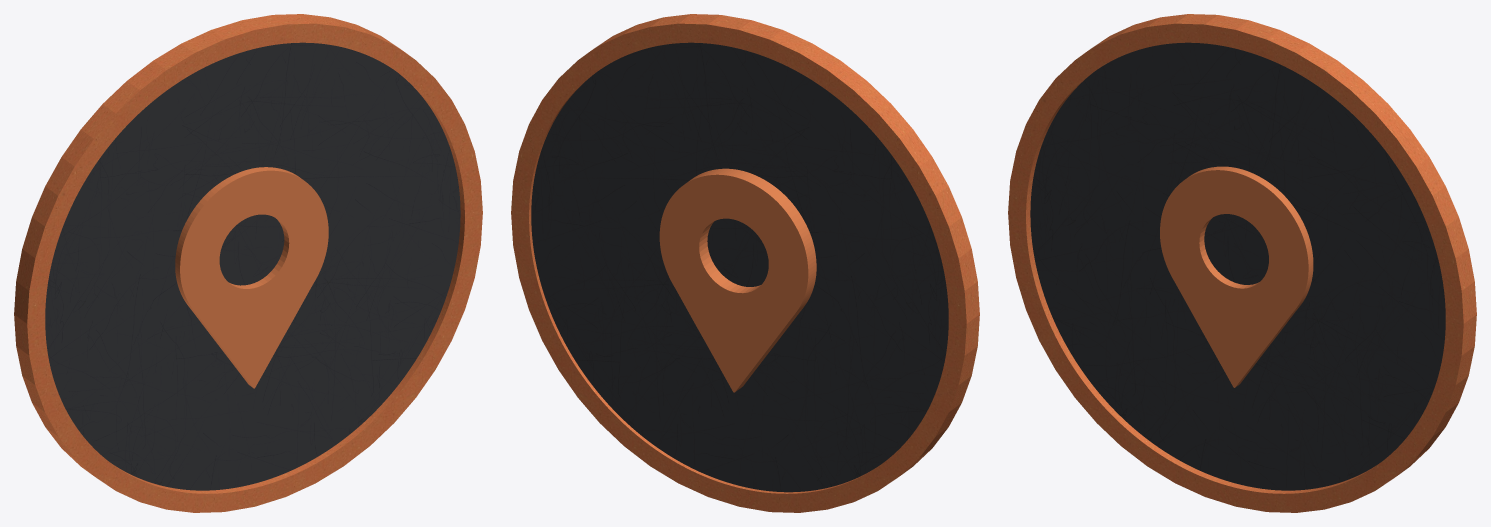
Rendered from location.glb.
3 views of the same model, side by side, from view 1: azimuth 30°, elevation 25°; view 2: azimuth 150°, elevation 25°; view 3: azimuth 330°, elevation 25° (orthographic).
Visible parts, largest first — view 1: Curve.002; view 2: Curve.002; view 3: Curve.002.
Part boxes in pixels (x1,y1,x2,y2): Curve.002: (14,14,482,512); Curve.002: (511,14,979,512); Curve.002: (1008,14,1476,512).
Size of the model in its own units: 0.4 by 0.3999 by 0.03.
3 materials, 3 textured.
